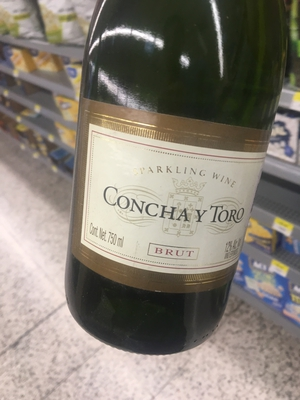brut: (59, 12, 300, 375)
